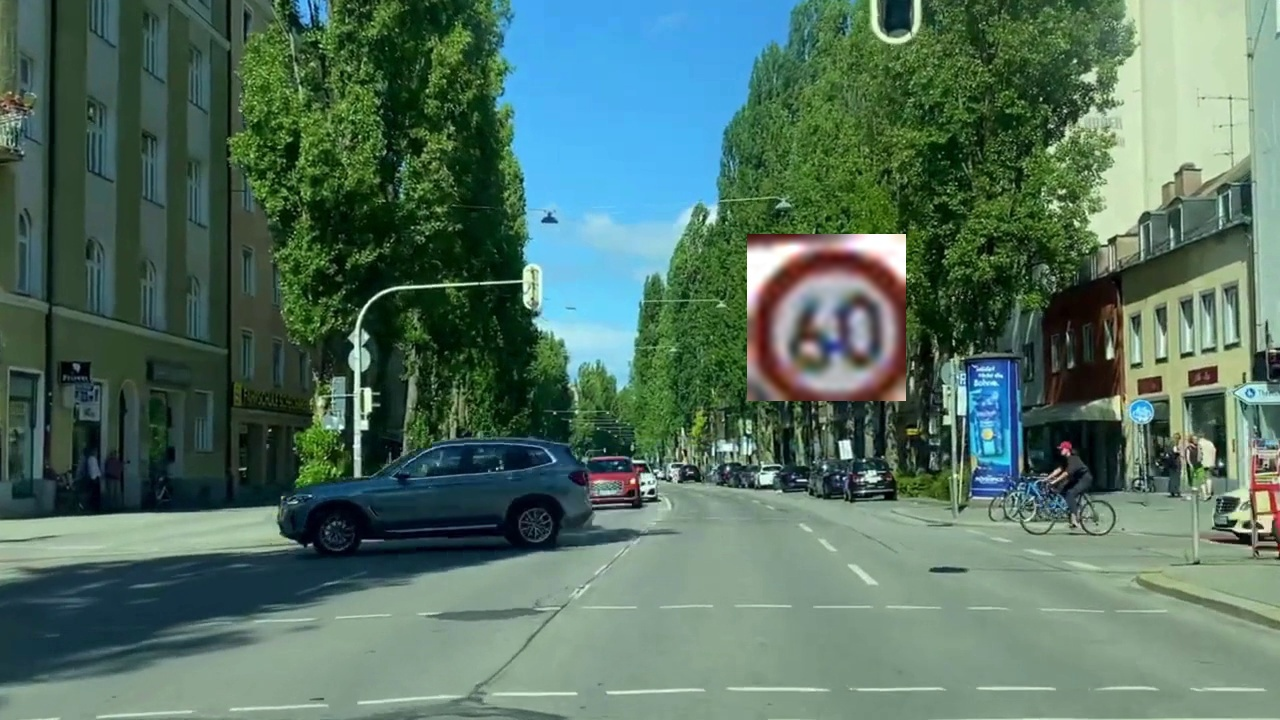Speed 60: (747, 234, 906, 401)
